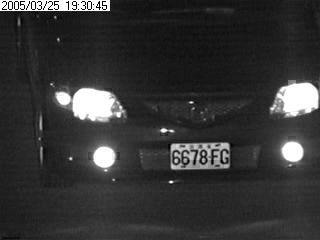plate: (169, 140, 232, 171)
